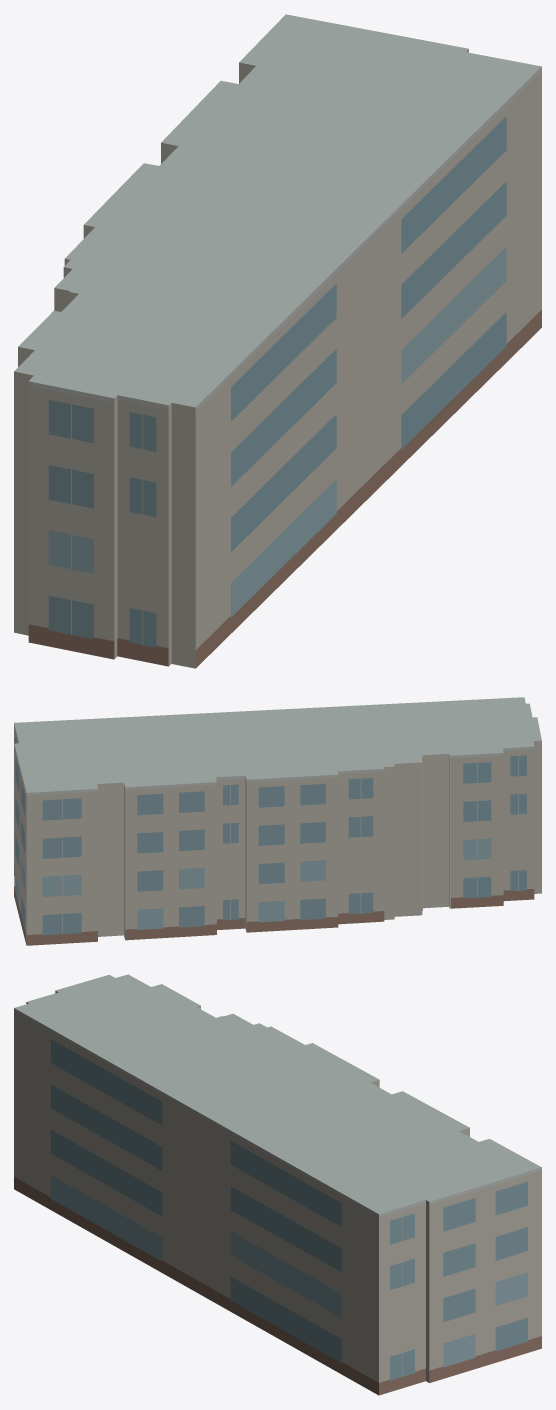
The model's file is survey-upis-32655917.glb.
The picture shows the model from 3 angles, top to bottom: view 1: azimuth 30°, elevation 25°; view 2: azimuth 150°, elevation 25°; view 3: azimuth 270°, elevation 25°; orthographic projection. The views are drawn at different scales.
Parts seen in each view (by area): view 1: survey-upis-32655917.tmp; view 2: survey-upis-32655917.tmp; view 3: survey-upis-32655917.tmp.
Boxes of the visible parts, left/top/right/bottom form: survey-upis-32655917.tmp: left=14, top=14, right=541, bottom=668; survey-upis-32655917.tmp: left=14, top=697, right=541, bottom=945; survey-upis-32655917.tmp: left=14, top=974, right=541, bottom=1395.
Size of the model in its own units: 38.81 by 13.67 by 36.09.
